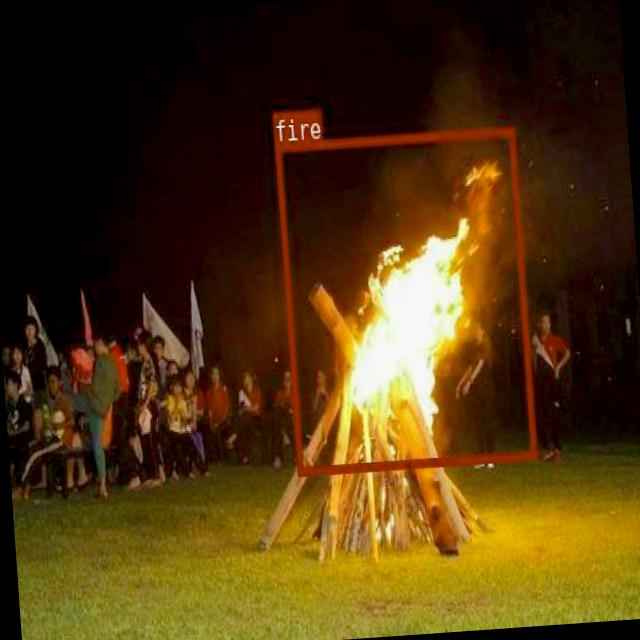fire: (274, 125, 536, 475)
